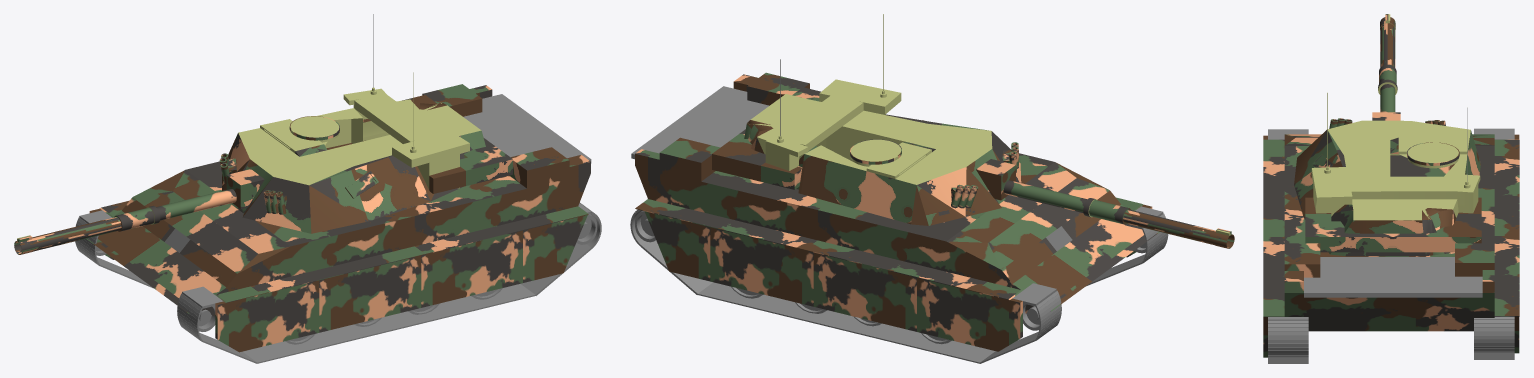
The model's file is tank.glb.
3 renders of one model, left to right at view 1: azimuth 30°, elevation 25°; view 2: azimuth 150°, elevation 25°; view 3: azimuth 270°, elevation 25°, orthographic. The views are drawn at different scales.
Parts seen in each view (by area): view 1: tank2; view 2: tank2; view 3: tank2.
Boxes of the visible parts, x1=… form: tank2: x1=14, y1=14, x2=601, y2=363; tank2: x1=630, y1=14, x2=1234, y2=363; tank2: x1=1263, y1=14, x2=1519, y2=363.
Size of the model in its own units: 2.77 by 1.12 by 1.16.
5 materials, 1 textured.
